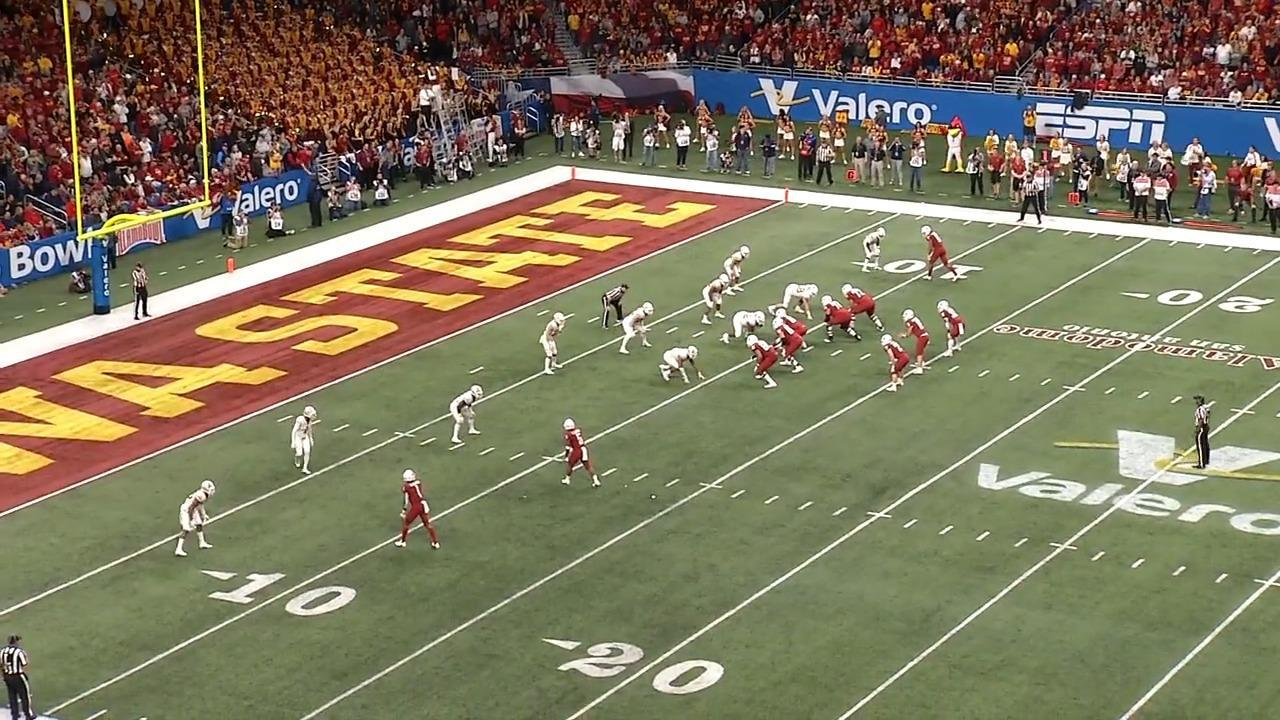player: (396, 466, 443, 552), (177, 477, 222, 561), (558, 414, 602, 490), (448, 382, 489, 449), (287, 403, 321, 481), (919, 223, 960, 280), (698, 273, 735, 330), (820, 297, 863, 345), (748, 332, 783, 390), (903, 306, 932, 375), (882, 333, 914, 394), (660, 342, 705, 385), (624, 300, 658, 356), (940, 297, 970, 360), (845, 289, 885, 336), (772, 319, 806, 374), (542, 309, 570, 375), (721, 308, 767, 345), (778, 283, 820, 320), (722, 244, 750, 297), (860, 224, 887, 272), (776, 306, 807, 340)
ref: (0, 631, 41, 720), (1189, 393, 1220, 468), (129, 257, 157, 326), (1020, 168, 1049, 230), (603, 280, 634, 335)
